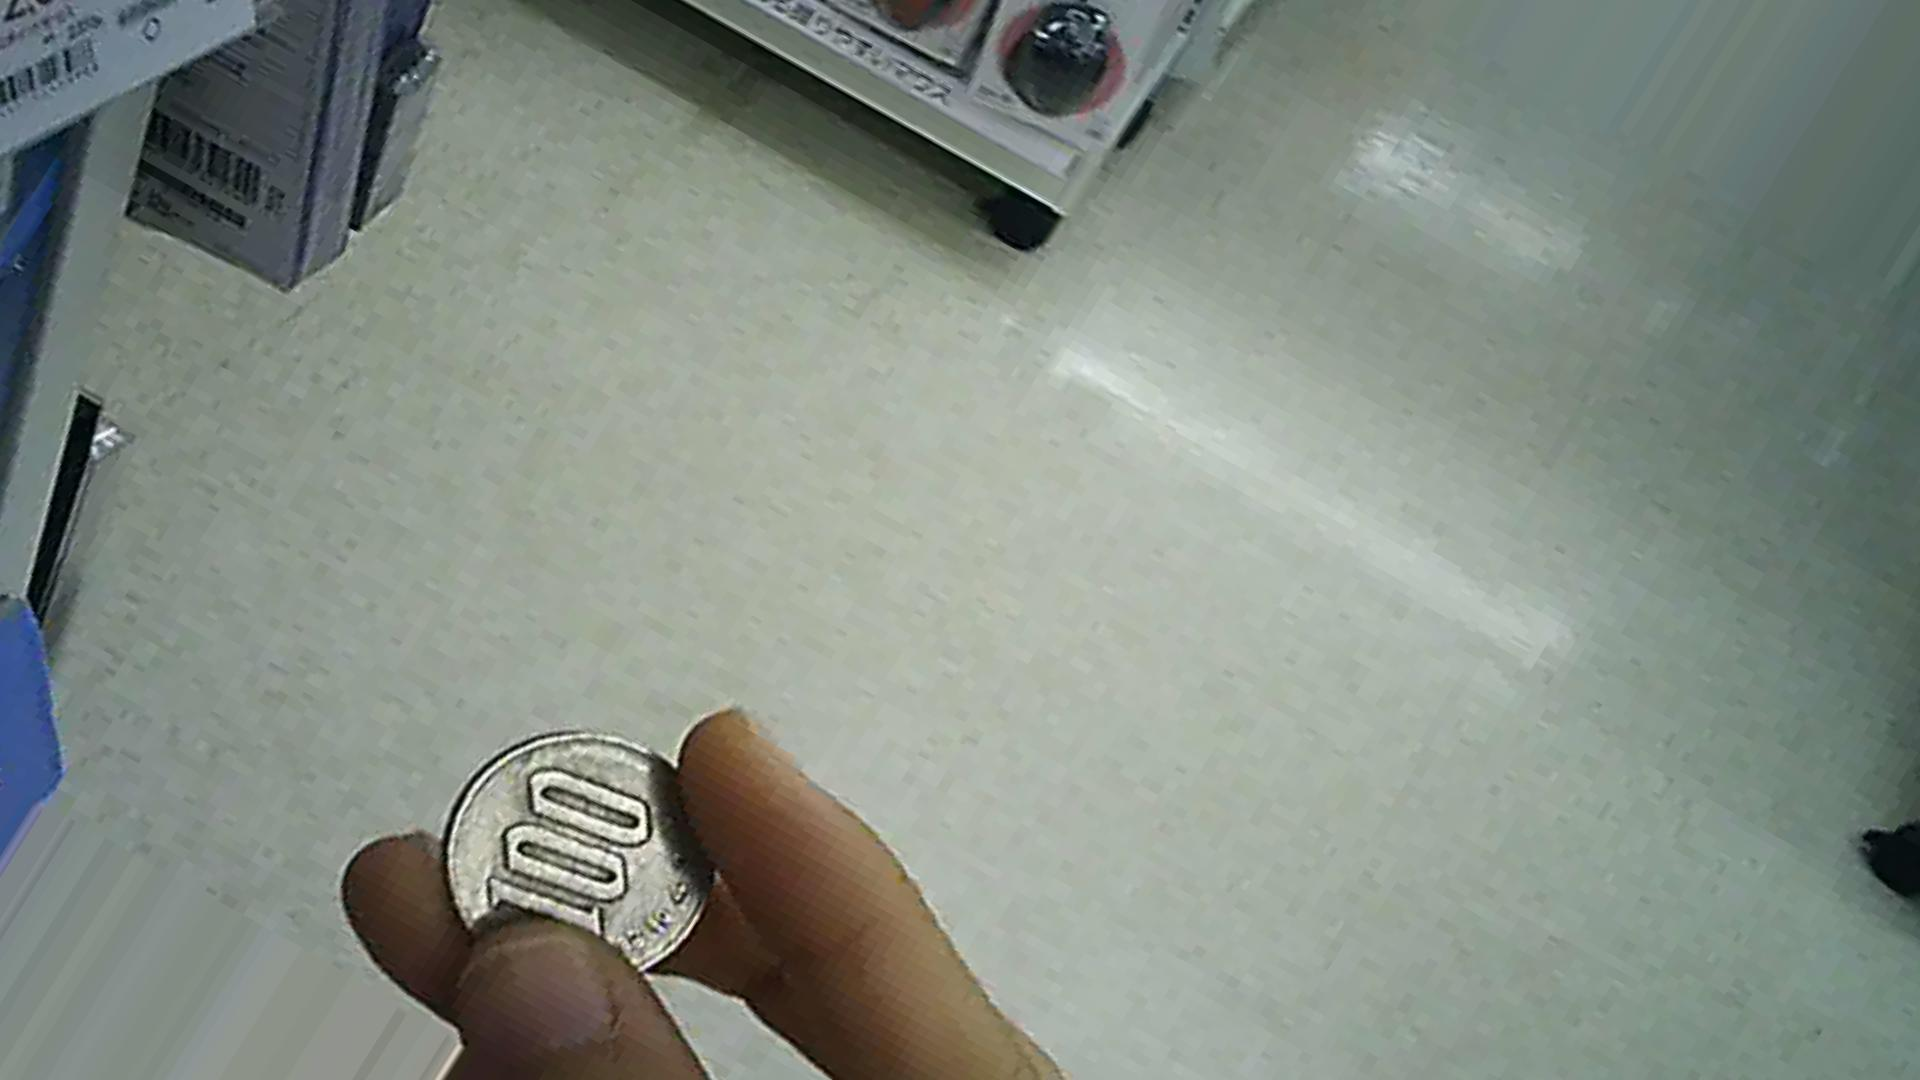100 Yen: (409, 719, 723, 975)
